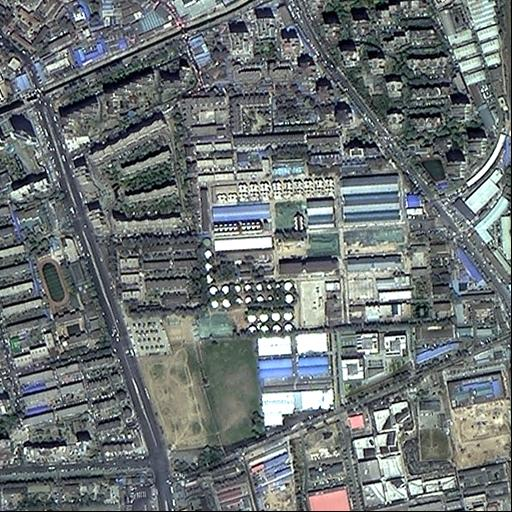school: (31, 234, 100, 311), (404, 133, 449, 191)
